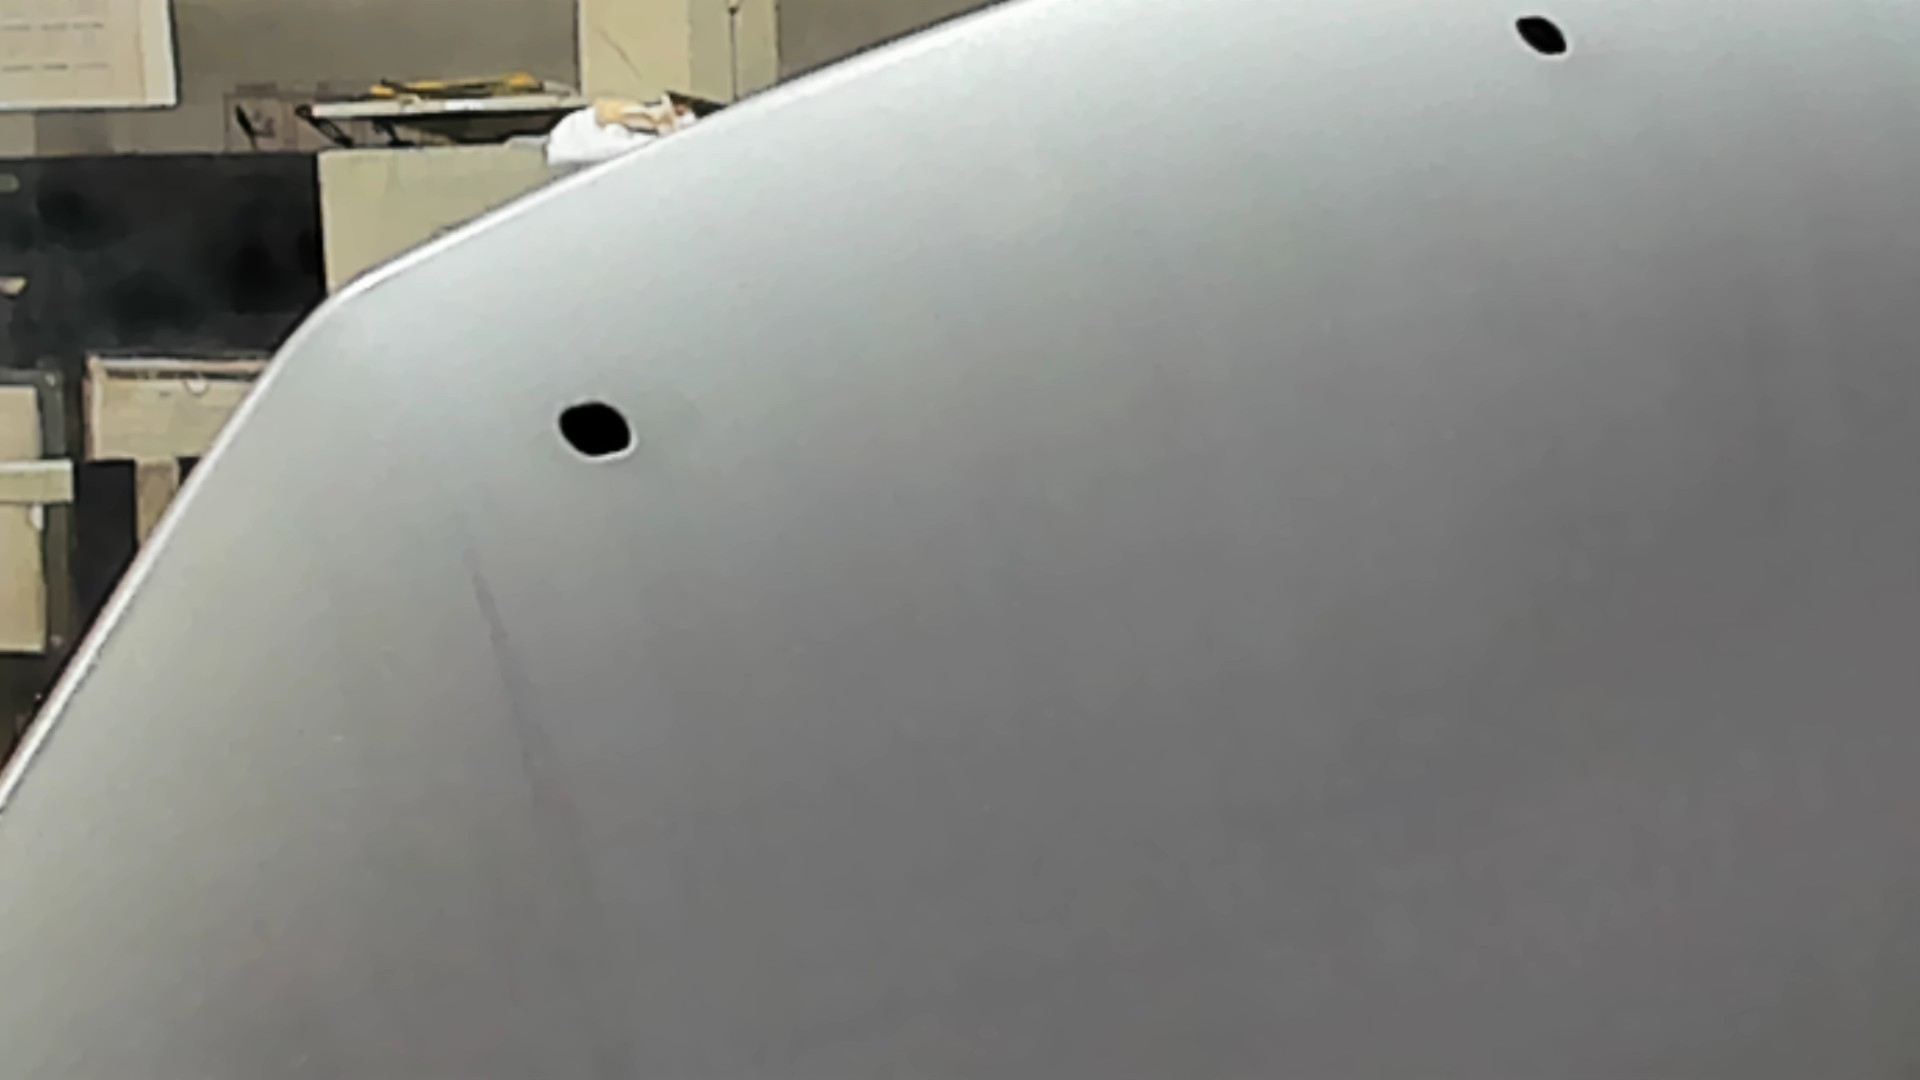Agujero: (547, 394, 641, 465), (1505, 7, 1577, 65)
